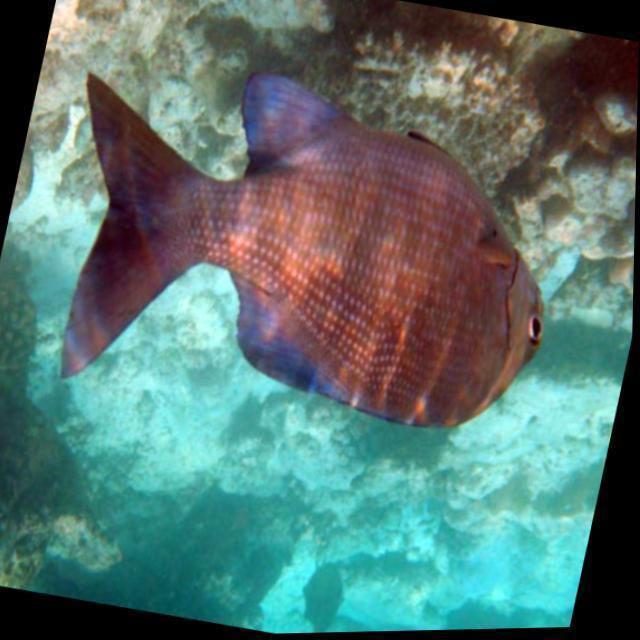Dead Coral: (479, 29, 640, 294)
